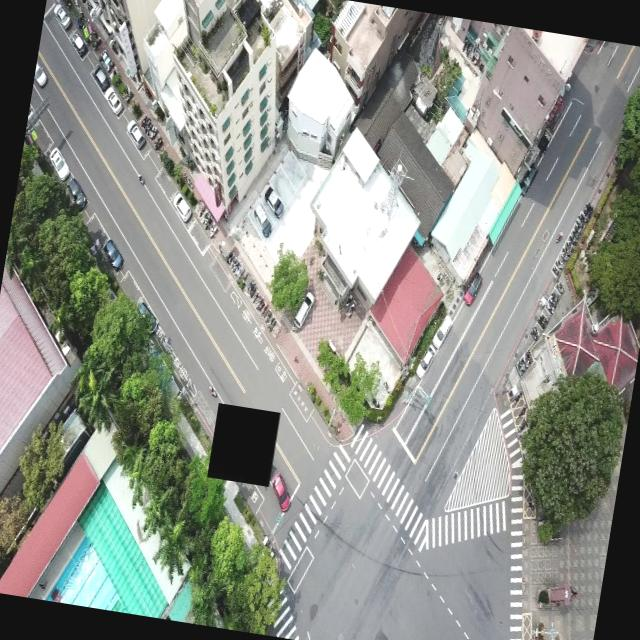bike: (206, 380, 222, 404), (136, 172, 146, 185)
car: (132, 298, 162, 336), (268, 470, 294, 512), (292, 288, 316, 332), (46, 144, 74, 180), (250, 201, 274, 241), (63, 175, 90, 209), (260, 183, 286, 218), (415, 341, 437, 380), (168, 192, 194, 224), (430, 314, 453, 350), (100, 85, 126, 116), (102, 238, 126, 270), (124, 118, 148, 150), (463, 270, 484, 306), (50, 2, 74, 30), (89, 63, 113, 91), (68, 30, 90, 59), (33, 58, 50, 88)
